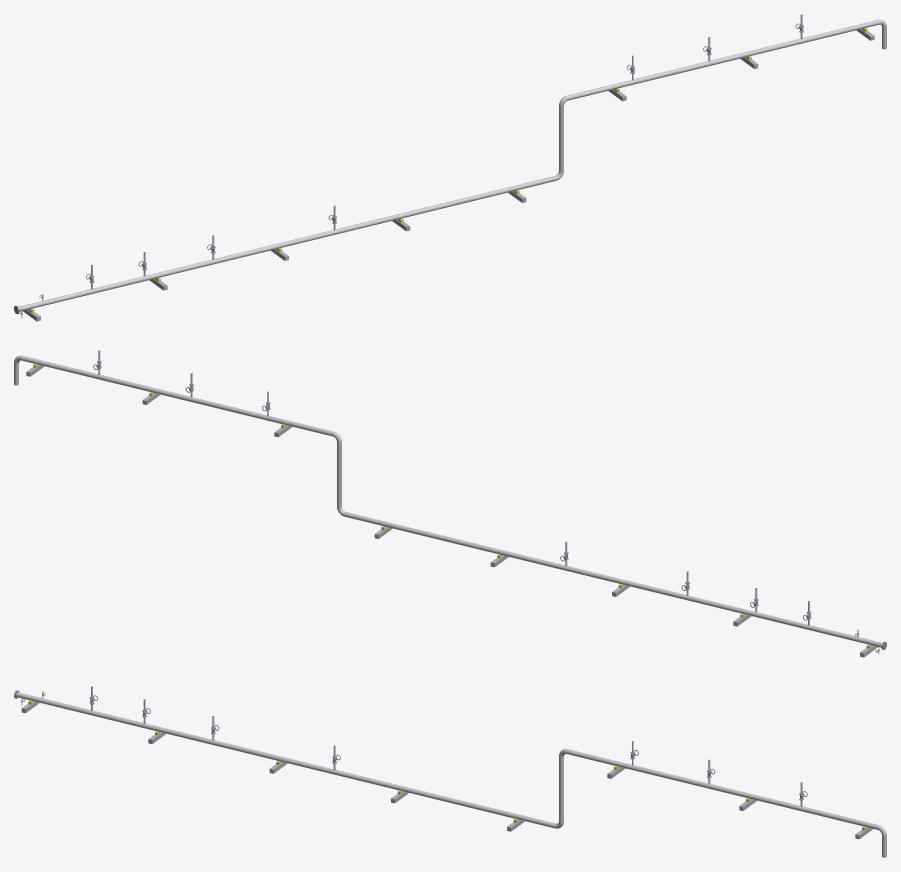
File: CWR-00001.glb
3 views of the same model, one above another, from view 1: azimuth 30°, elevation 25°; view 2: azimuth 150°, elevation 25°; view 3: azimuth 330°, elevation 25° (orthographic).
Parts seen in each view (by area): view 1: pipe, steel; view 2: pipe, steel; view 3: pipe, steel.
Boxes of the visible parts, <box> form: pipe: <box>18,14,886,317</box>; steel: <box>20,26,874,321</box>; pipe: <box>14,350,882,653</box>; steel: <box>26,365,877,657</box>; pipe: <box>16,686,886,857</box>; steel: <box>21,694,872,839</box>.
Size of the model in its own units: 33 by 4.09 by 1.
